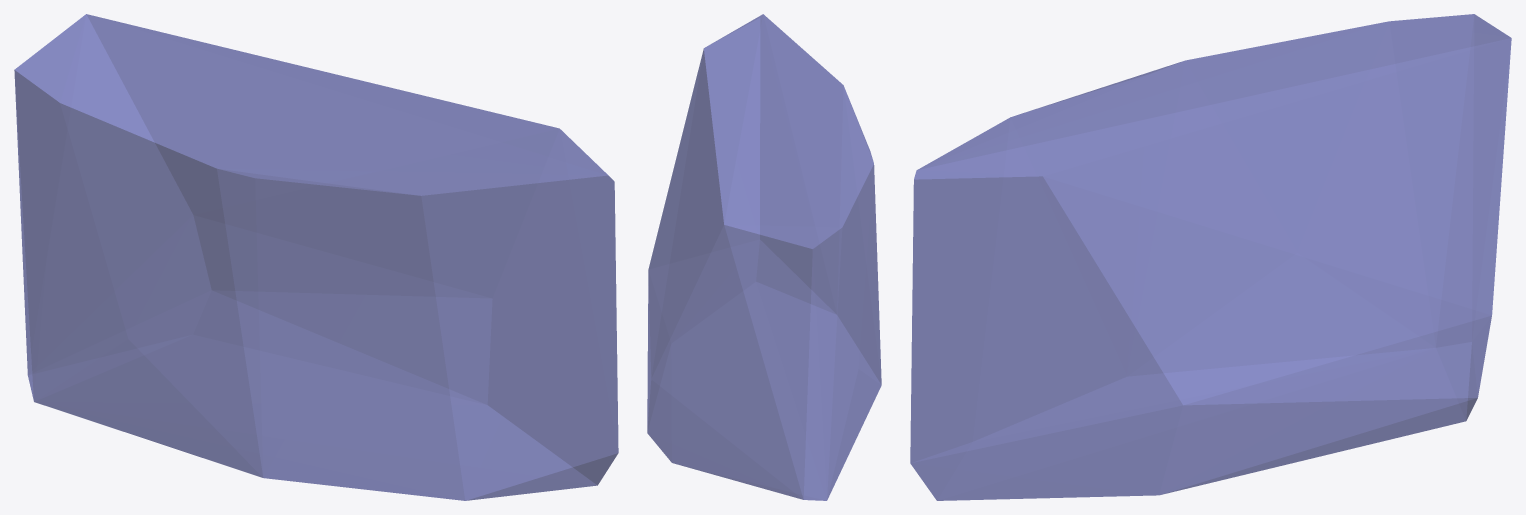
3 renders of one model, left to right at view 1: azimuth 30°, elevation 25°; view 2: azimuth 150°, elevation 25°; view 3: azimuth 270°, elevation 25°, orthographic. The views are drawn at different scales.
Parts seen in each view (by area): view 1: Shape_IndexedFaceSet.028_Shape_IndexedFaceSet.1993; view 2: Shape_IndexedFaceSet.028_Shape_IndexedFaceSet.1993; view 3: Shape_IndexedFaceSet.028_Shape_IndexedFaceSet.1993.
Part boxes in pixels (x1,y1,x2,y2): Shape_IndexedFaceSet.028_Shape_IndexedFaceSet.1993: (14, 14, 618, 500); Shape_IndexedFaceSet.028_Shape_IndexedFaceSet.1993: (647, 14, 881, 500); Shape_IndexedFaceSet.028_Shape_IndexedFaceSet.1993: (910, 14, 1511, 500).
Bounding box in the file's own units: 0.1548 × 0.1484 × 0.2278.
